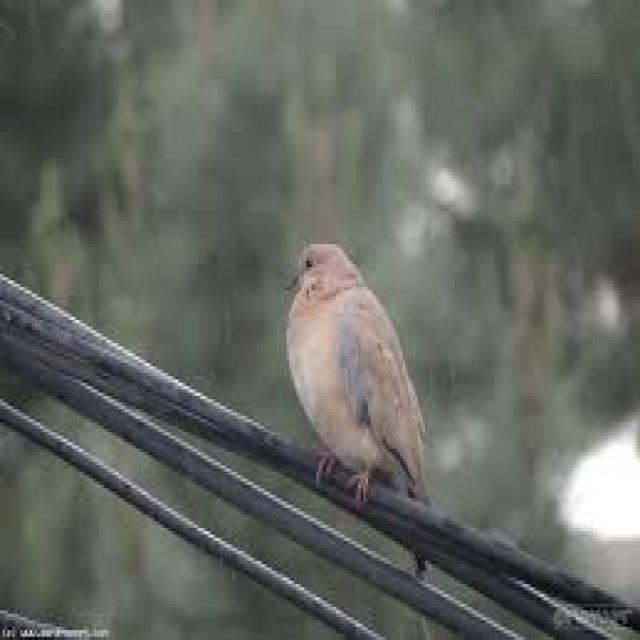dove: (282, 234, 441, 508)
